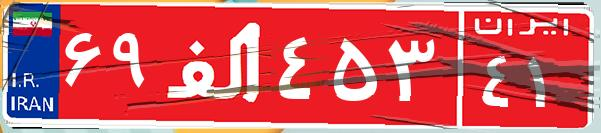1: (525, 38, 570, 115)
3: (385, 28, 445, 110)
4: (273, 28, 330, 110), (475, 38, 525, 113)
5: (330, 28, 385, 110)
6: (57, 26, 110, 107)
9: (110, 28, 158, 105)
الف: (158, 15, 273, 115)
